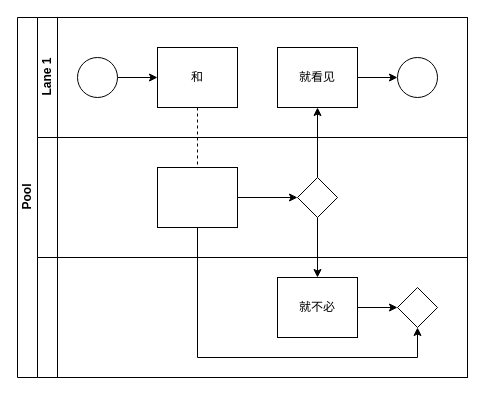
Some shapes in this 485 by 395 pixel diagram are drawn without their labels. The shapes that lost their labels are listed below. From the top down, each one's box as (x1, y1, x2, y2) in pixels, then its label:
(156, 166, 238, 228): 呼呼
(36, 136, 468, 258): Lane 2
(36, 256, 468, 378): Lane 3
